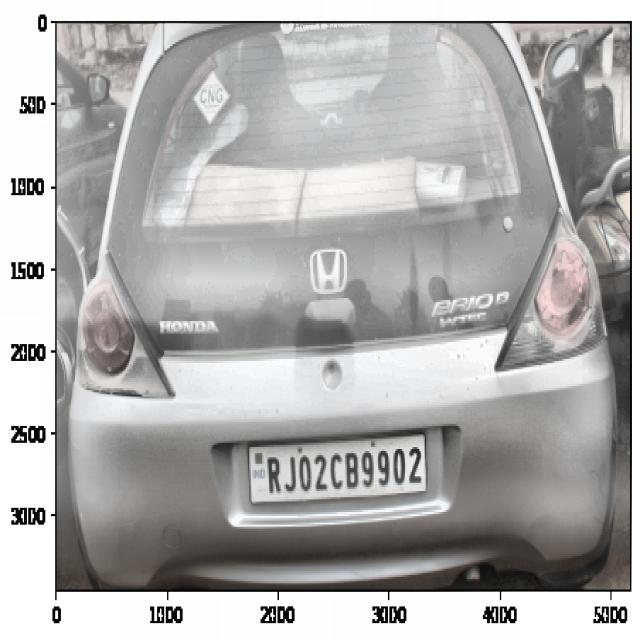license_plate: (258, 438, 426, 502)
